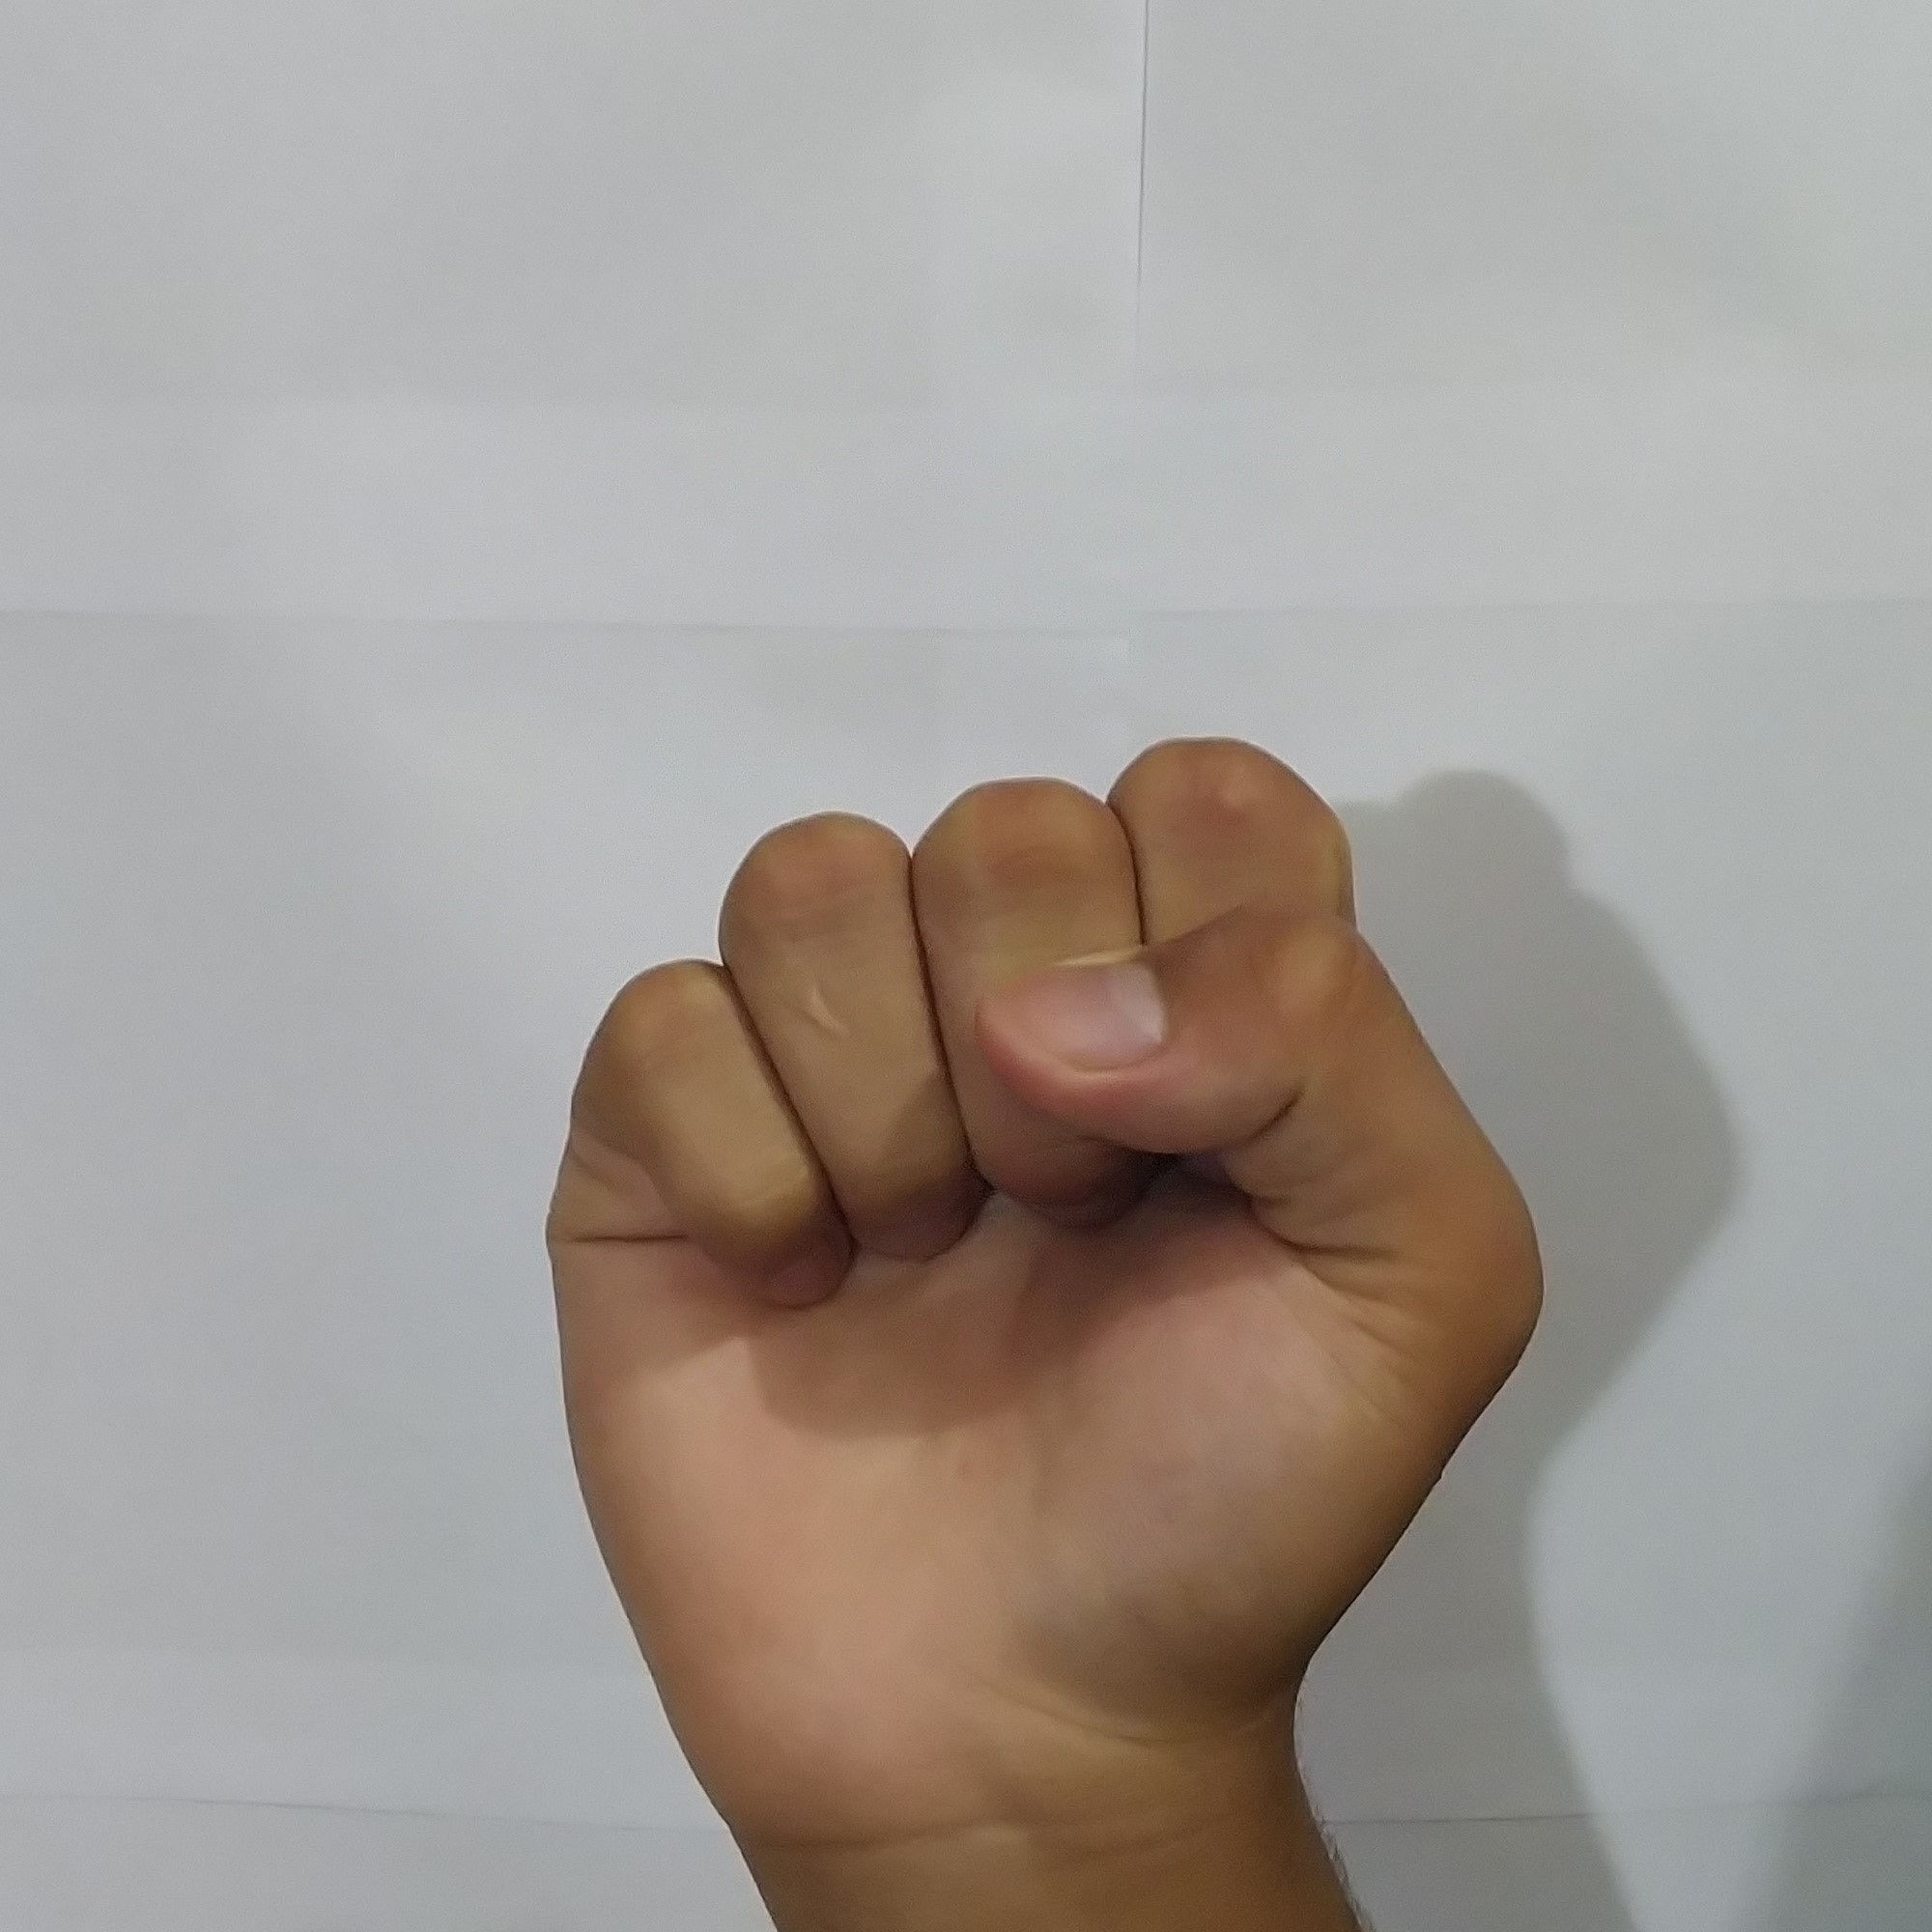S: (511, 701, 1571, 1810)
